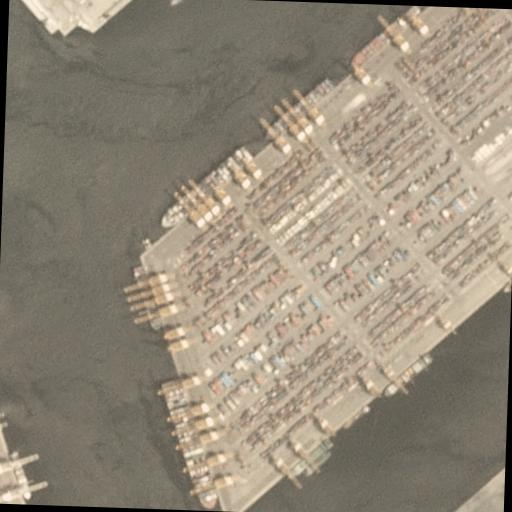ship: (154, 382, 221, 508), (162, 142, 252, 232), (348, 4, 419, 72), (264, 76, 332, 142), (126, 266, 162, 332), (383, 350, 433, 397), (288, 438, 334, 478), (428, 6, 500, 22)
